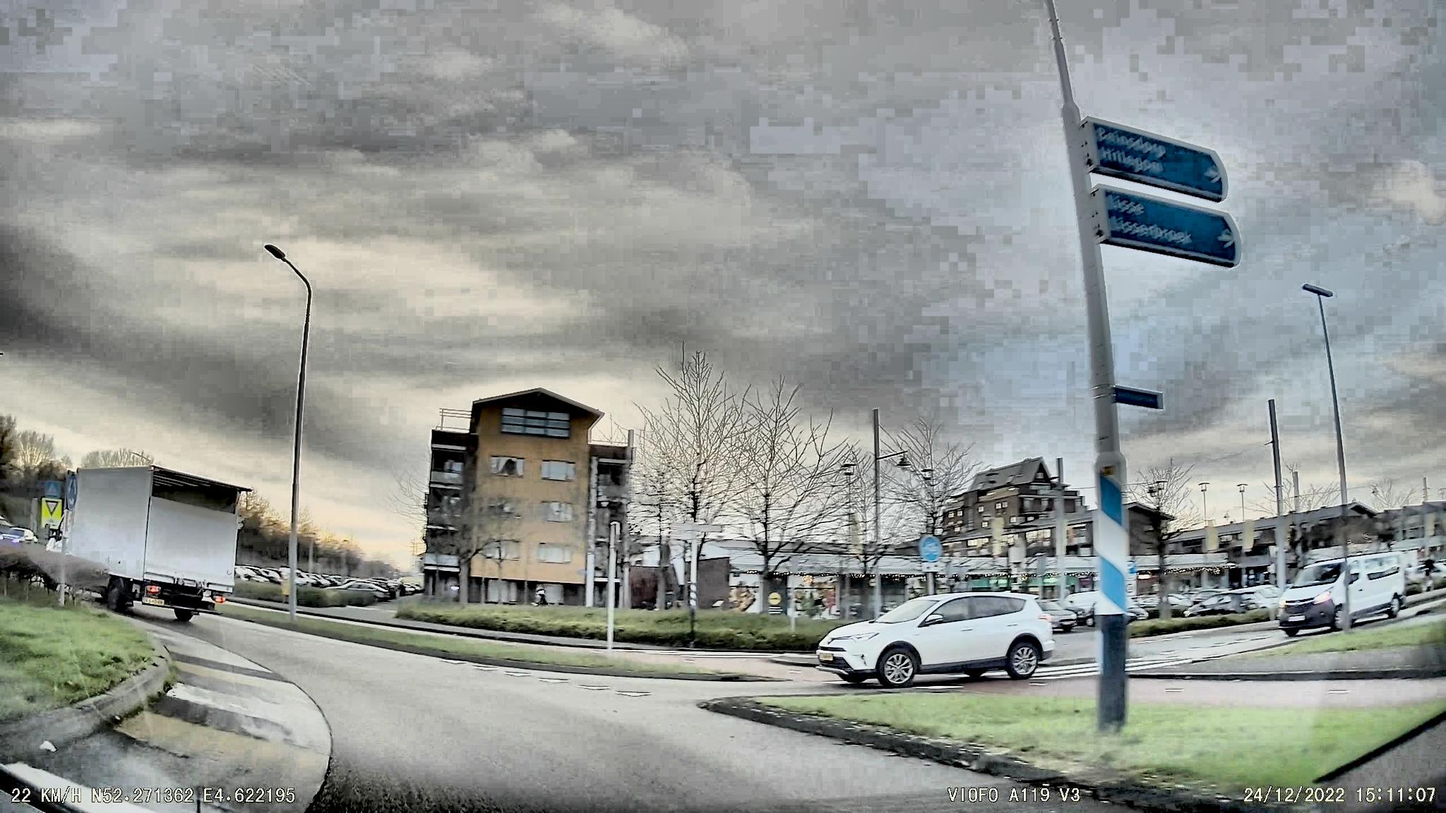Roads: (186, 618, 1138, 813)
